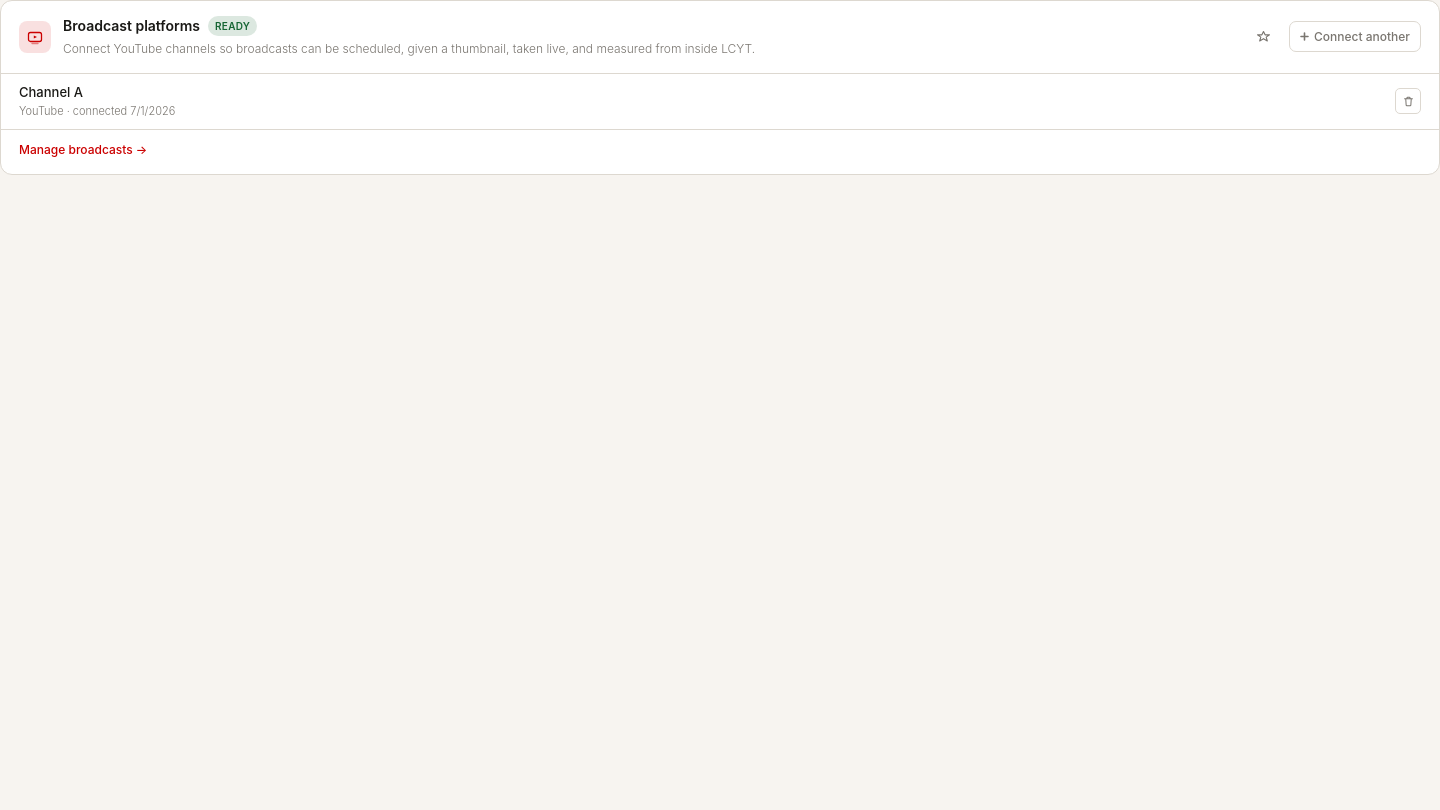
Test: PlatformsSection › warns when the provider would not confirm revocation
Click the button titled "Delete" at (1408, 101), box [1395,88,1421,114]
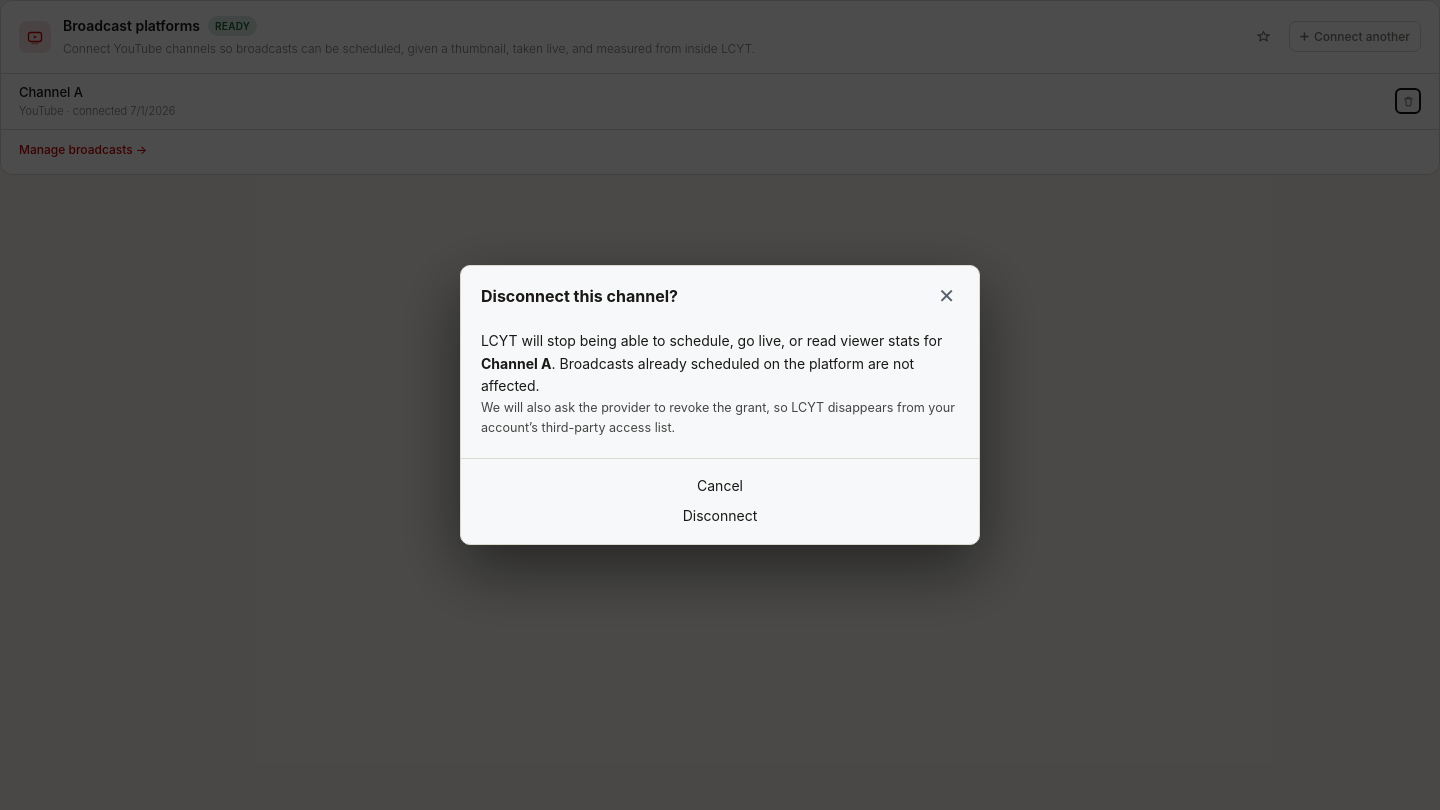
Click the button "Disconnect" at (720, 516), box [481,505,959,528]
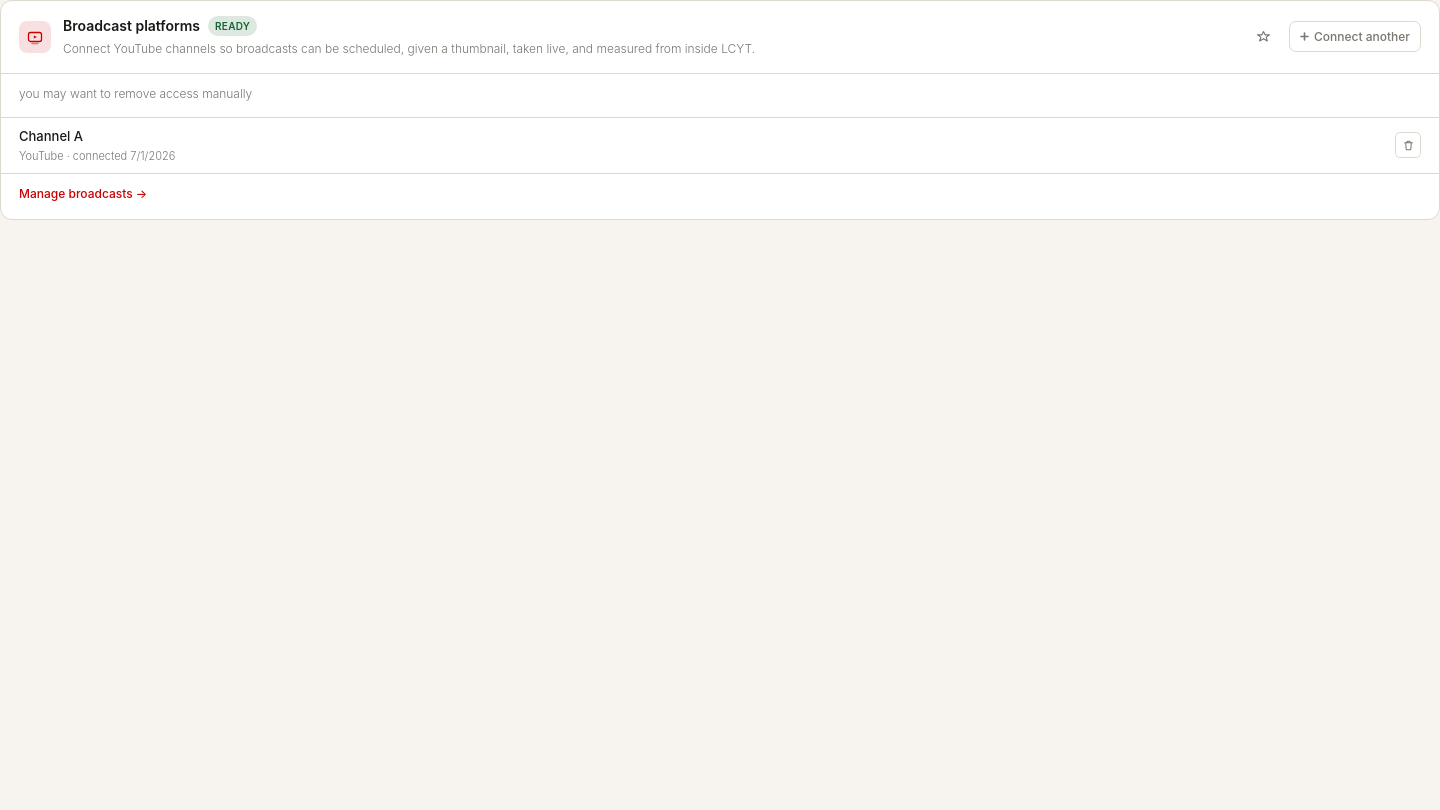
Expected: the text "you may want to remove access manually" is shown, [19,86,252,101]
